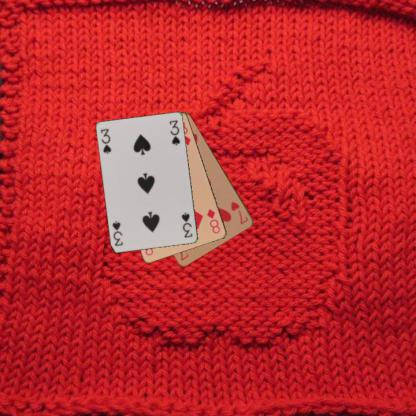3s: (179, 210, 194, 239), (98, 126, 113, 155)
7h: (228, 199, 250, 226)
8d: (204, 206, 221, 235)
